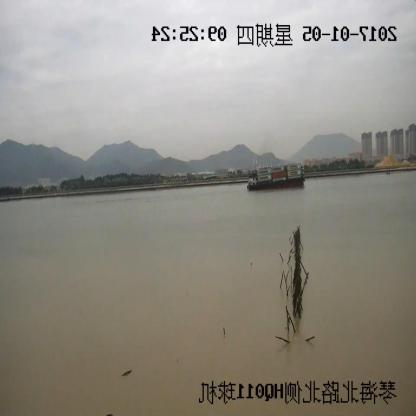Container Ship: (248, 164, 306, 190)
